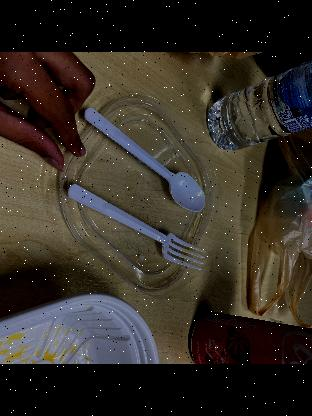Others: (78, 109, 210, 217), (62, 180, 206, 272)
